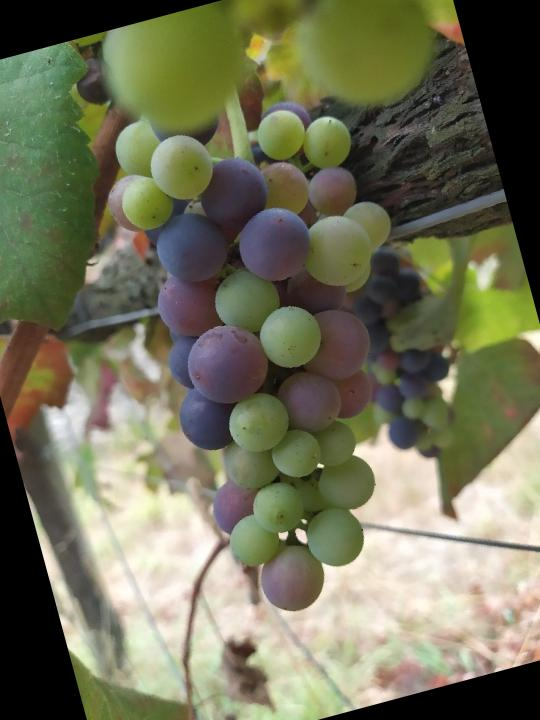grape: (83, 49, 485, 634)
